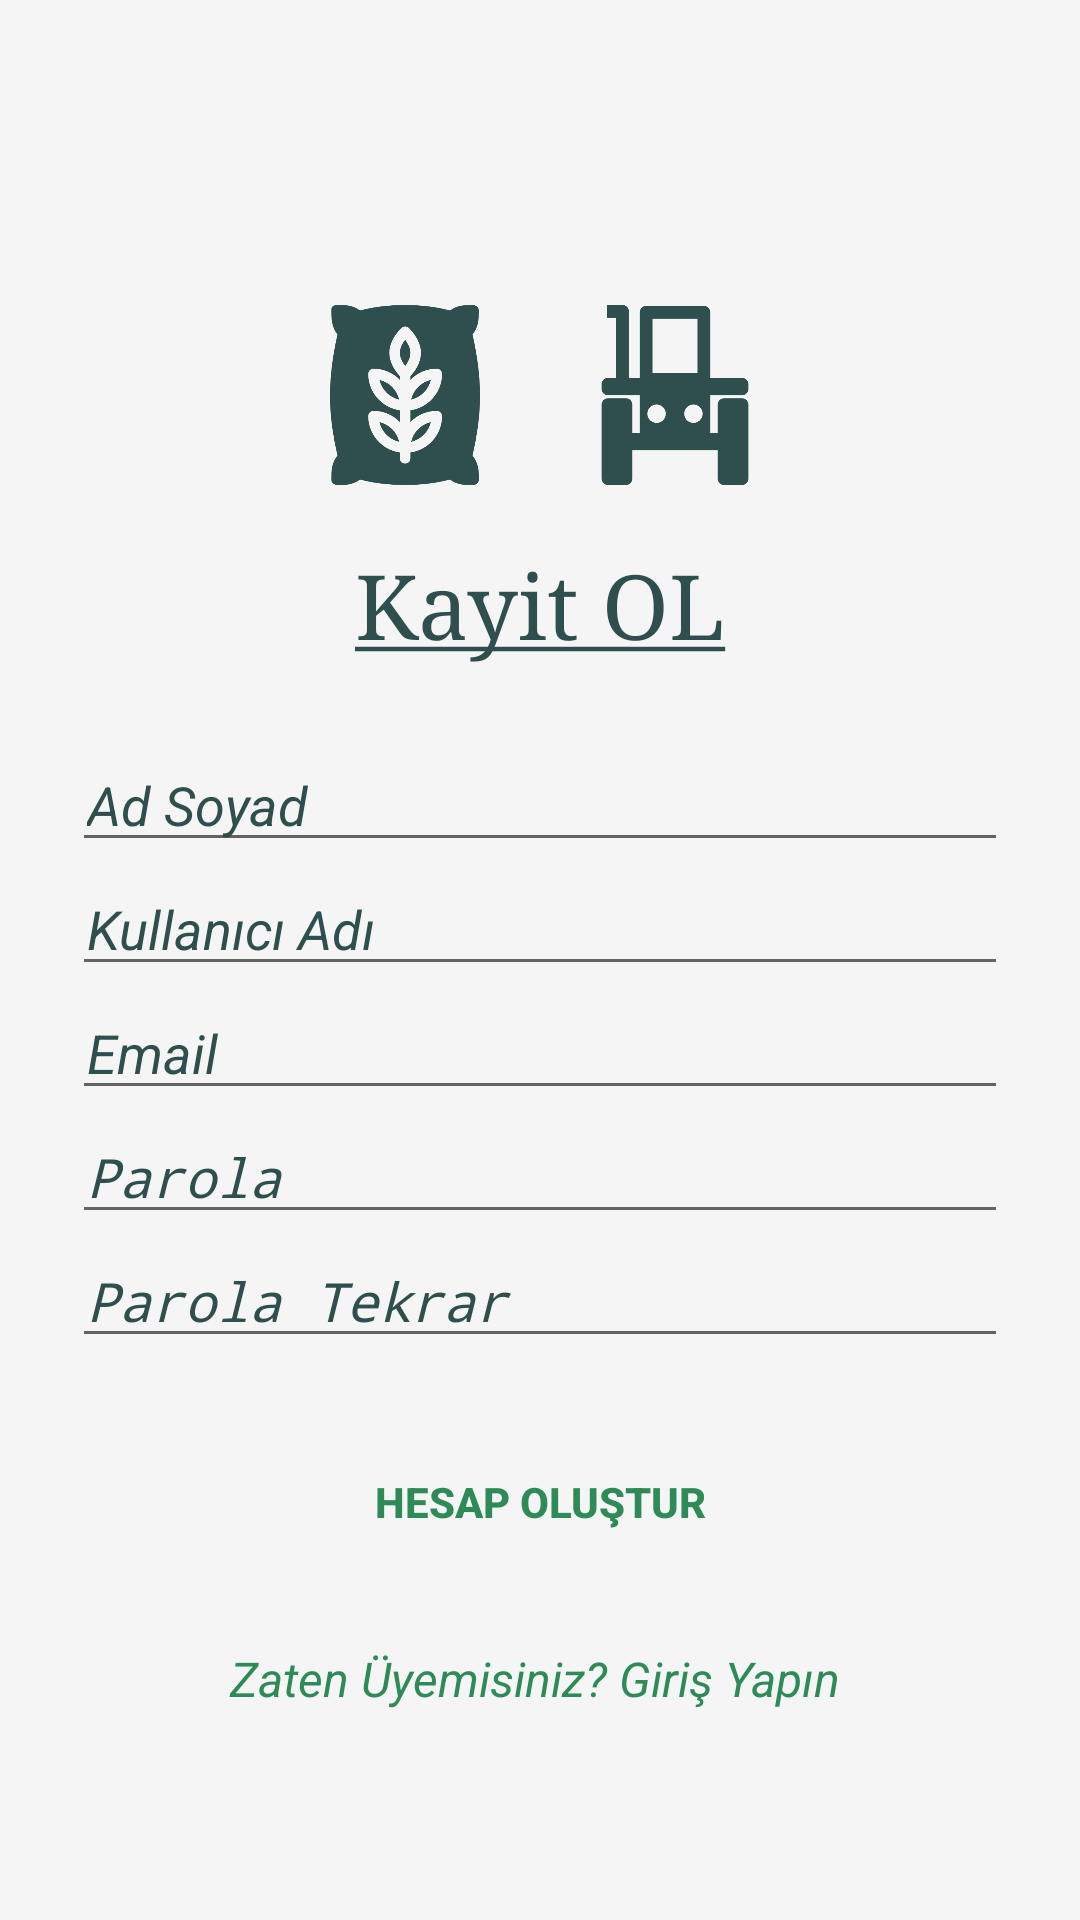

Named icons in this screenshot (1080 x 1920) and their centers, [x,y]:
tractor: [675,395]
wheat: [405,395]
